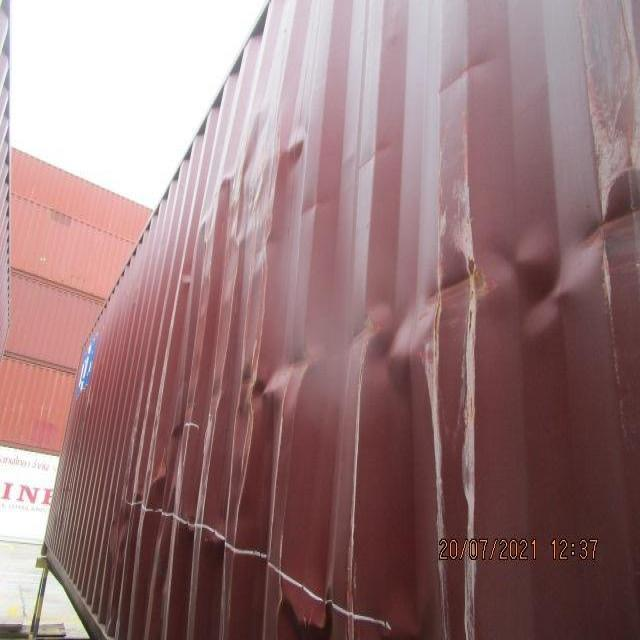Dent: (101, 161, 640, 583), (175, 85, 328, 307)
